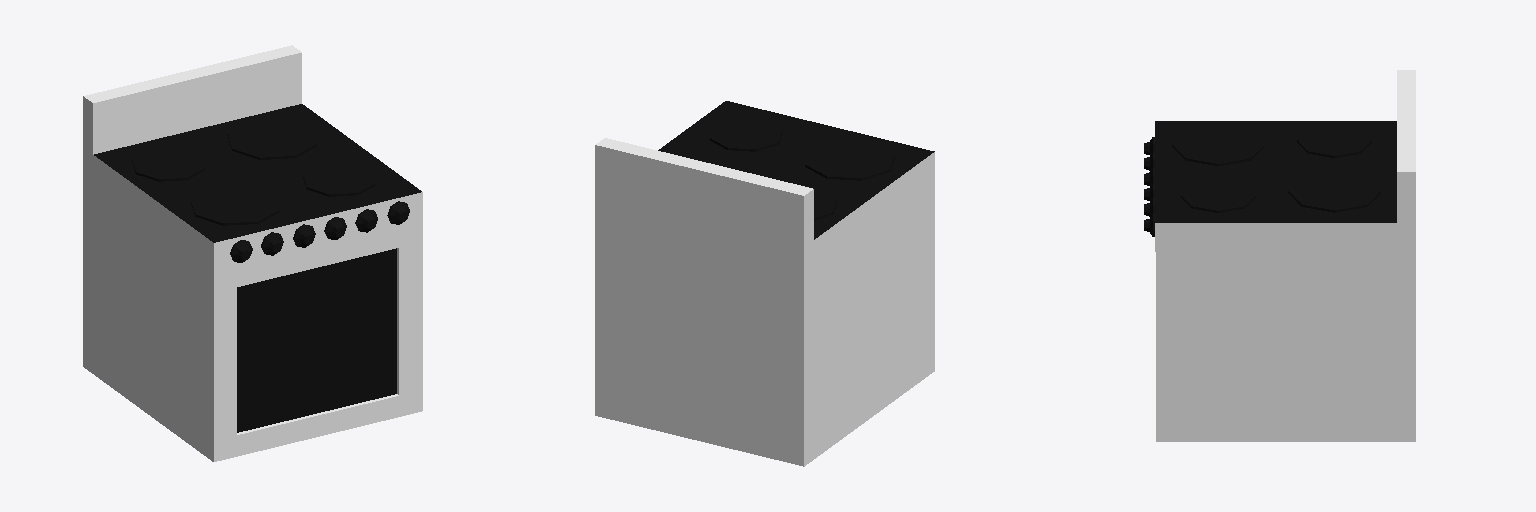
Rendered from Oven_01.obj.
3 renders of one model, left to right at view 1: azimuth 30°, elevation 25°; view 2: azimuth 150°, elevation 25°; view 3: azimuth 270°, elevation 25°, orthographic.
Parts seen in each view (by area): view 1: Oven_01_Cube.041; view 2: Oven_01_Cube.041; view 3: Oven_01_Cube.041.
Boxes of the visible parts, box(x1,y1,x2,y2) form: Oven_01_Cube.041: box(83, 45, 422, 461); Oven_01_Cube.041: box(595, 101, 934, 466); Oven_01_Cube.041: box(1144, 70, 1415, 441).
Bounding box in the file's own units: 8.1 × 10.02 × 9.15.